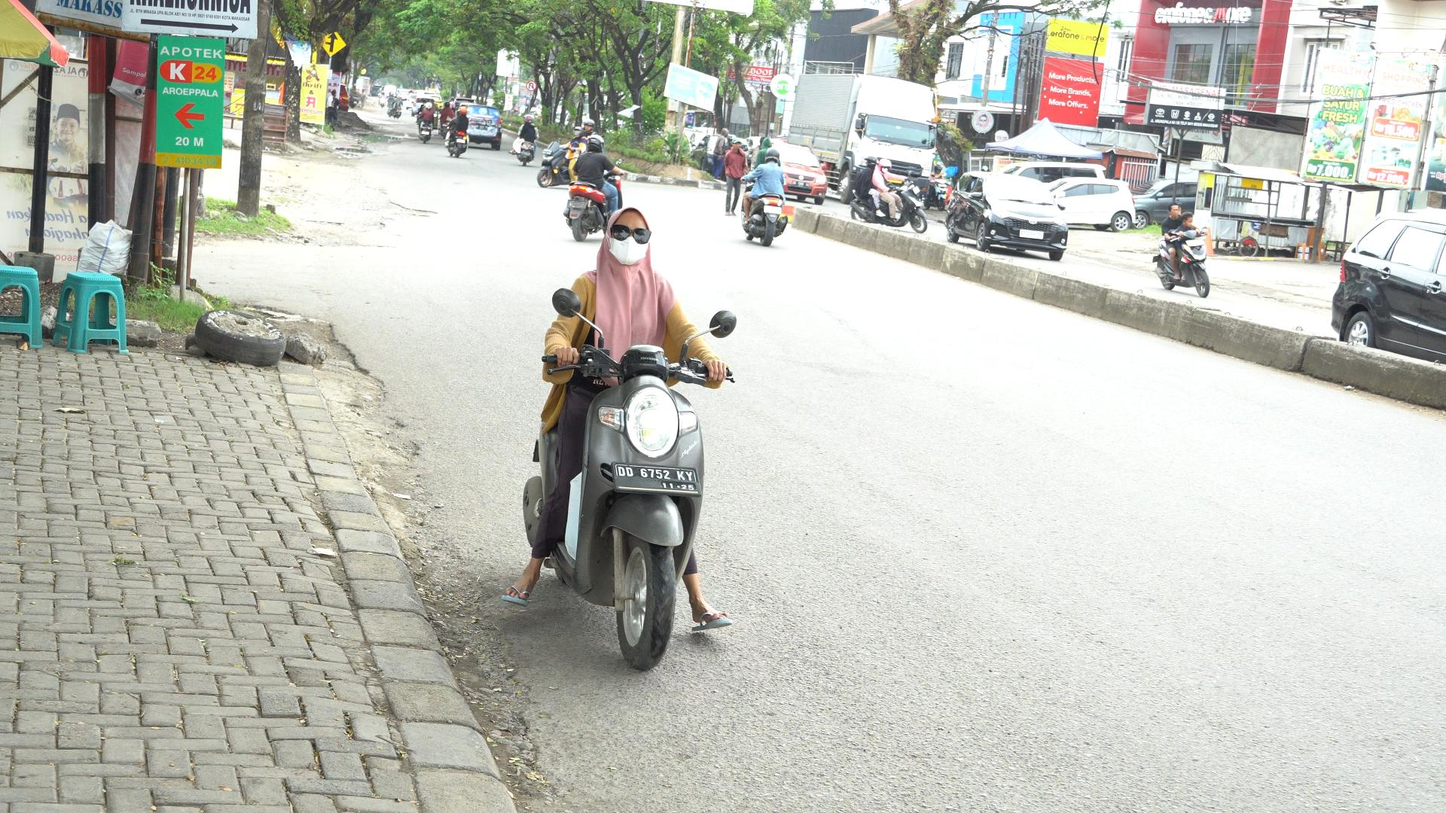number-plate: (605, 463, 703, 499)
